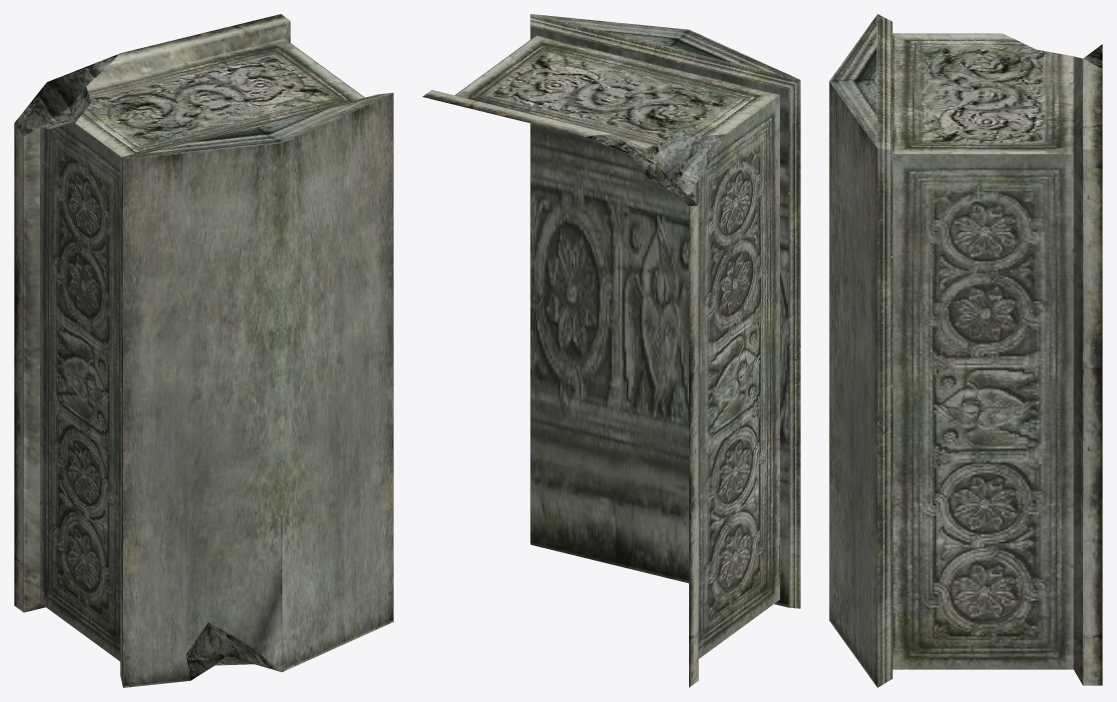
Rendered from prop_crypt2.glb.
3 views of the same model, side by side, from view 1: azimuth 30°, elevation 25°; view 2: azimuth 150°, elevation 25°; view 3: azimuth 270°, elevation 25° (orthographic). The views are drawn at different scales.
Bounding box in the file's own units: 71.51 × 134 × 61.38.
Materials: 1 (1 with a texture image).
